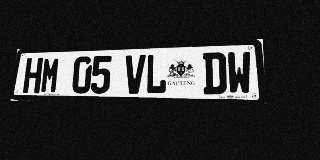0: (71, 56, 93, 94)
5: (90, 56, 112, 94)
D: (203, 52, 227, 94)
H: (22, 58, 43, 93)
L: (145, 54, 167, 94)
M: (40, 57, 61, 93)
V: (124, 54, 146, 94)
W: (227, 51, 252, 95)
